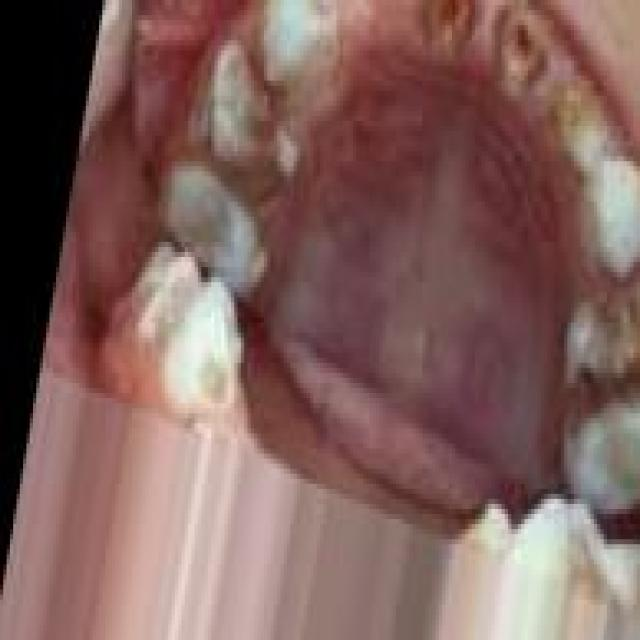caries: (565, 267, 640, 431), (202, 37, 284, 178), (490, 0, 552, 90), (548, 60, 601, 150), (420, 0, 485, 57)
